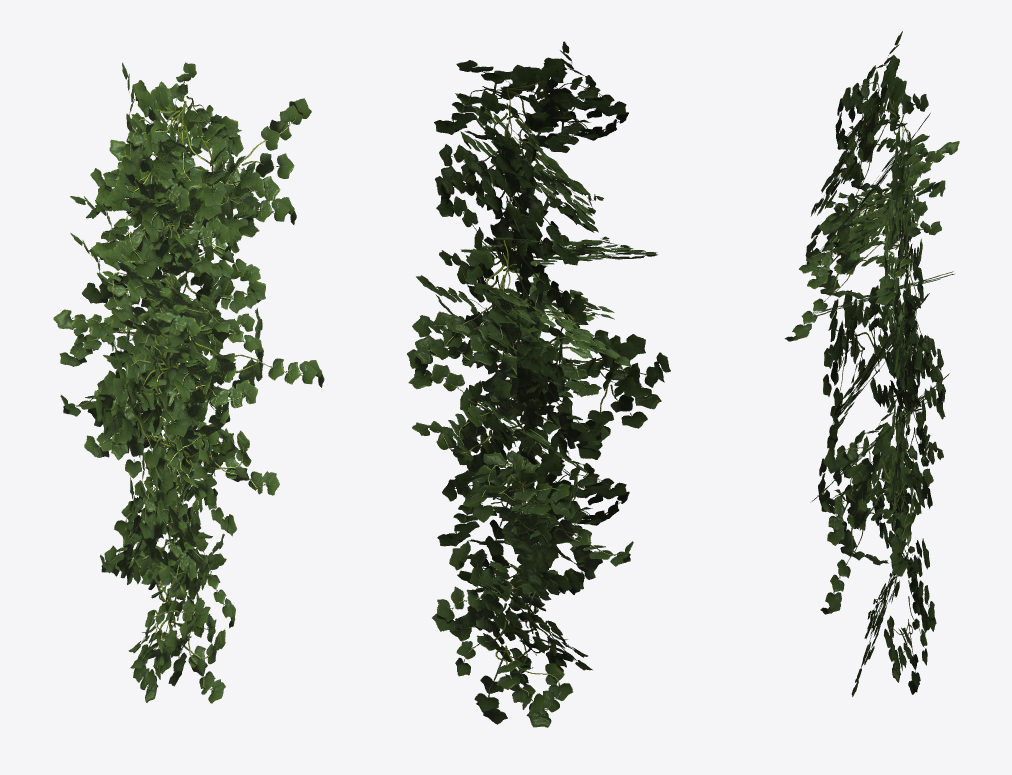
The model's file is MK4_Ivy_Plant.DAE.
3 renders of one model, left to right at view 1: azimuth 30°, elevation 25°; view 2: azimuth 150°, elevation 25°; view 3: azimuth 270°, elevation 25°, orthographic. The views are drawn at different scales.
Parts seen in each view (by area): view 1: MK4_IvyPlant; view 2: MK4_IvyPlant; view 3: MK4_IvyPlant.
Part boxes in pixels (<box>): MK4_IvyPlant: <box>53,62,324,703</box>; MK4_IvyPlant: <box>407,41,670,727</box>; MK4_IvyPlant: <box>784,31,959,696</box>.
Size of the model in its own units: 4.1 by 3.1 by 9.87.
